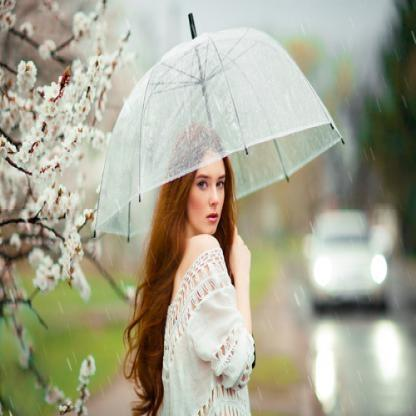Umbrella: (80, 8, 346, 265)
